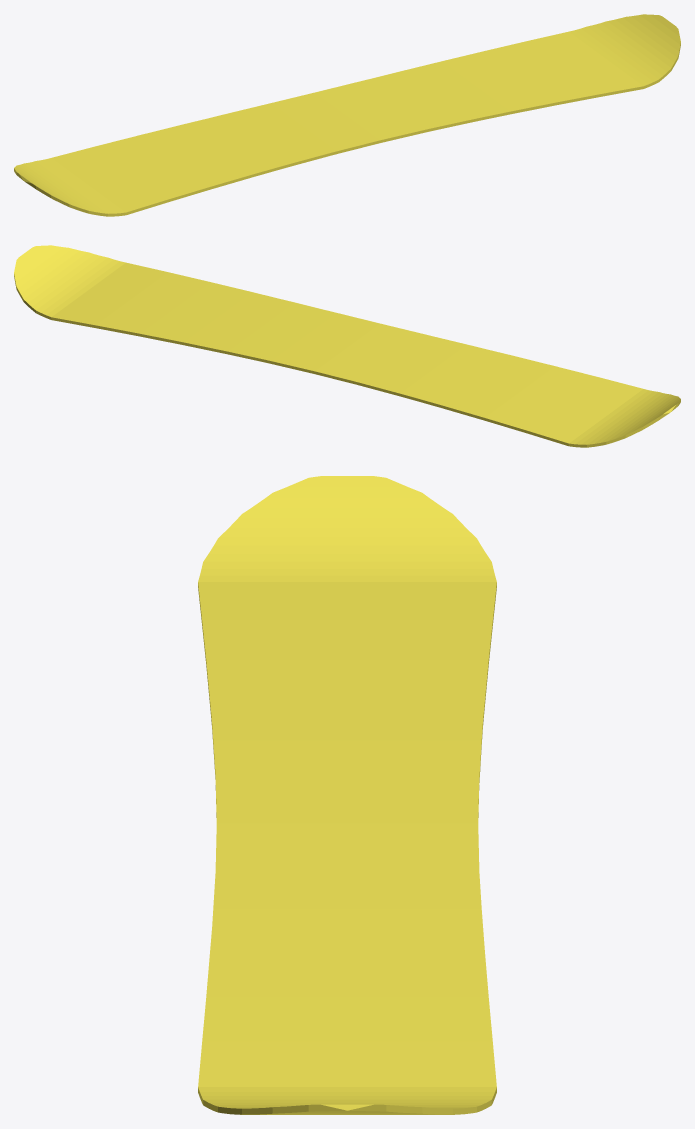
The model's file is snowboard.fbx.
3 views of the same model, one above another, from view 1: azimuth 30°, elevation 25°; view 2: azimuth 150°, elevation 25°; view 3: azimuth 270°, elevation 25° (orthographic). The views are drawn at different scales.
Visible parts, largest first — view 1: snowboard1; view 2: snowboard1; view 3: snowboard1.
Boxes of the visible parts, x1,y1,x2,y2 form: snowboard1: (14, 14, 680, 216); snowboard1: (14, 245, 680, 447); snowboard1: (198, 476, 496, 1114).
Size of the model in its own units: 60 by 2.21 by 12.
